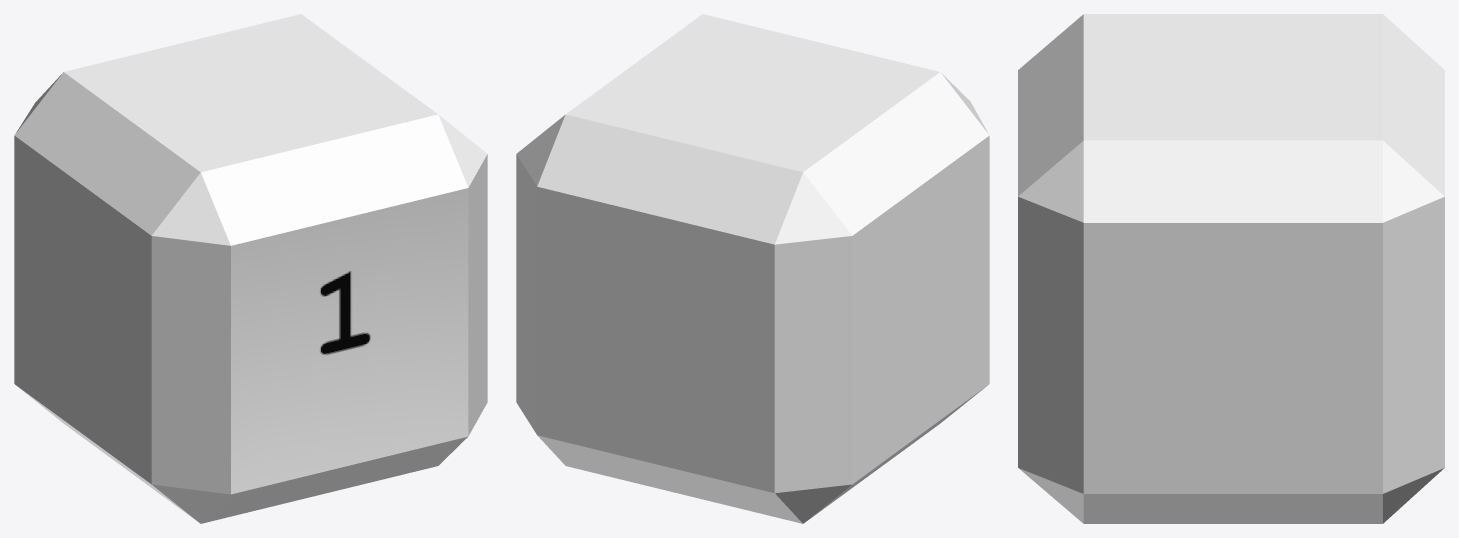
The model's file is ButtonCorrect.fbx.
3 views of the same model, side by side, from view 1: azimuth 30°, elevation 25°; view 2: azimuth 150°, elevation 25°; view 3: azimuth 270°, elevation 25° (orthographic). The views are drawn at different scales.
Visible parts, largest first — view 1: Button; view 2: Button; view 3: Button.
Part boxes in pixels (bbox=[...]): Button: bbox=[14, 14, 487, 523]; Button: bbox=[516, 14, 989, 523]; Button: bbox=[1018, 14, 1444, 523].
Size of the model in its own units: 2.93 by 2.93 by 2.96.
